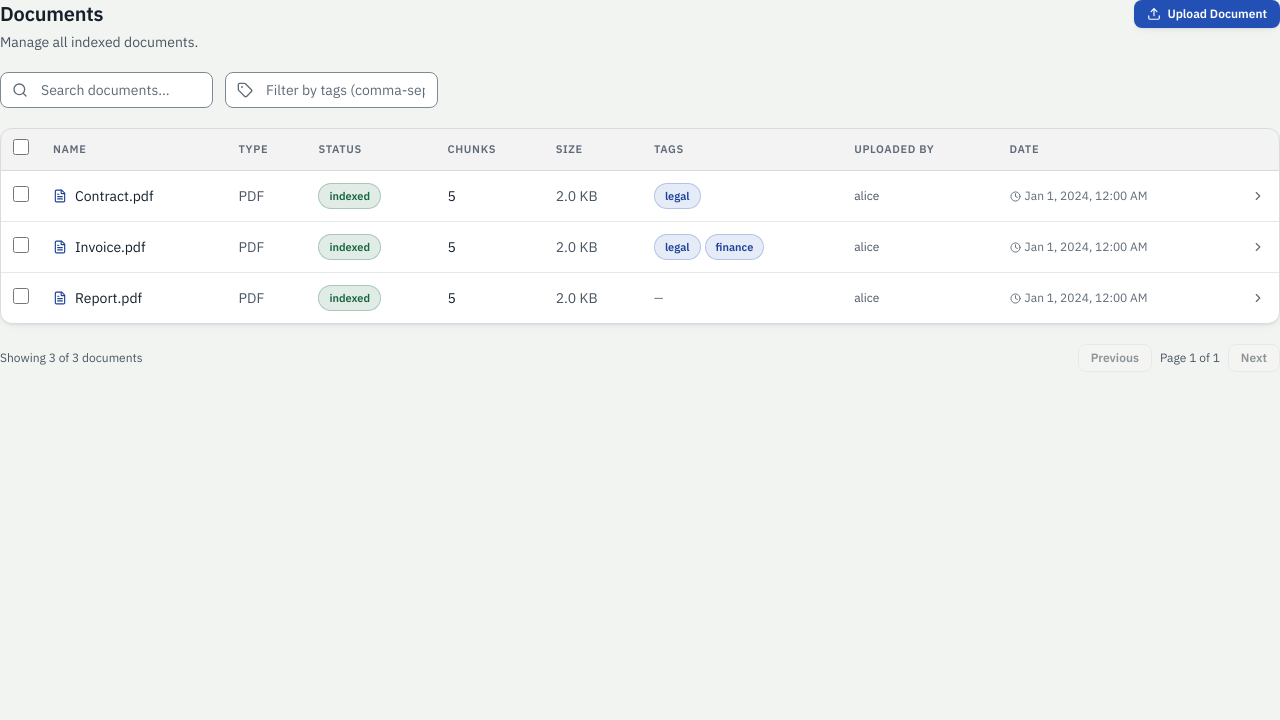
Test: AdminDocumentsPage — Fix round 1 › delete confirm modal lists the selected filenames
Expected: the text "Contract.pdf" is shown, [75,186,154,206]
Click the checkbox named "Select all documents".
click(21, 147)  # box [13,139,29,155]
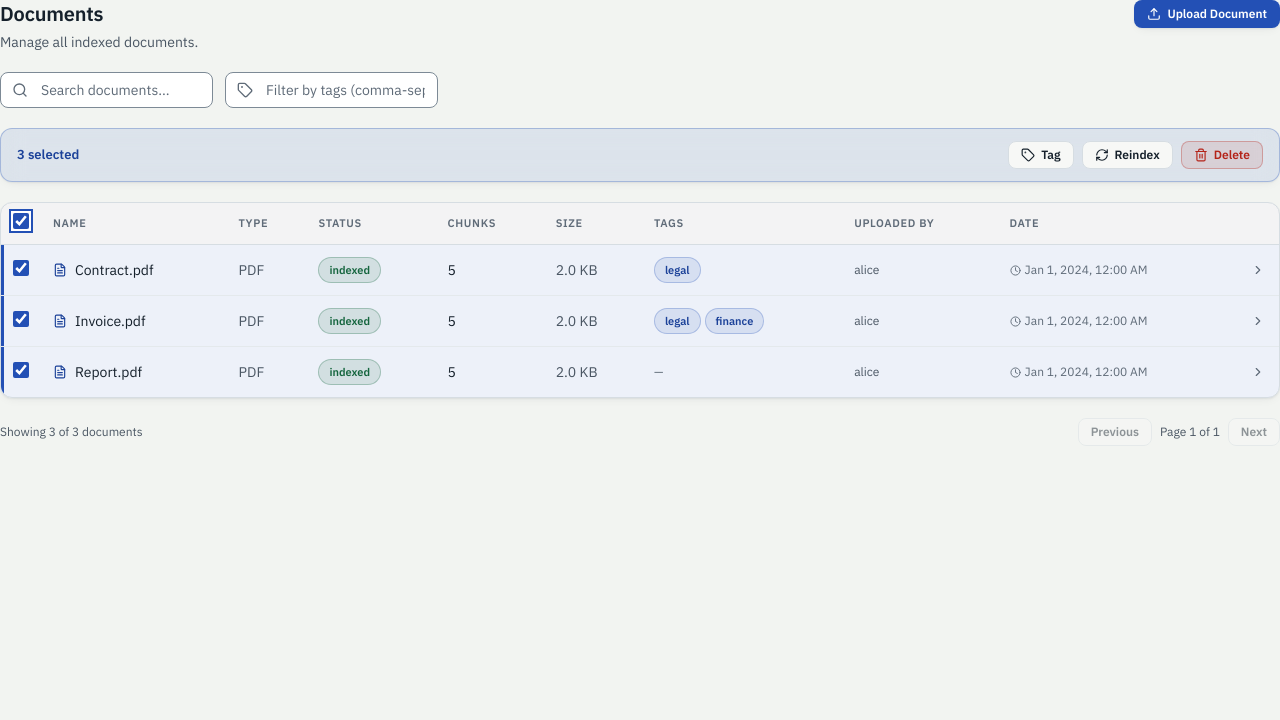
Click the checkbox named "Select Contract.pdf".
click(21, 268)  # box [13,260,29,276]
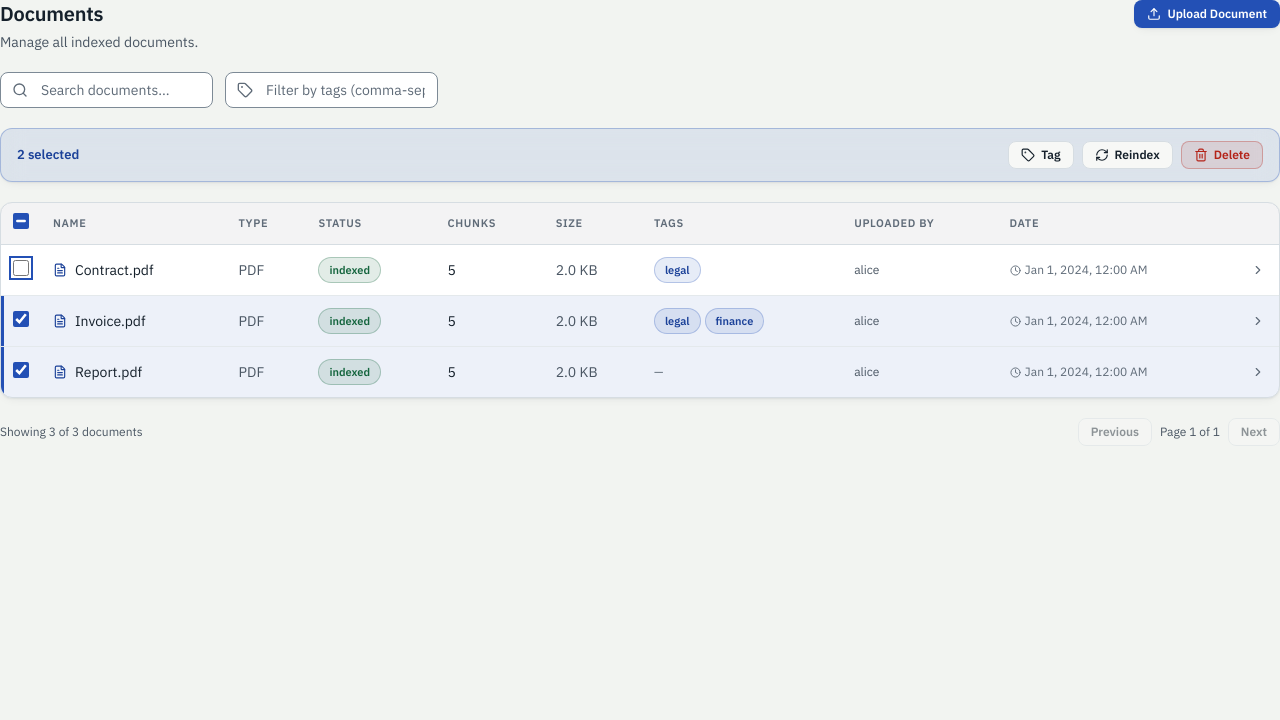
Now the text "2 selected" is shown, box [17,145,79,165]
Click the button "Delete".
click(1222, 155)  # box [1181,141,1263,169]
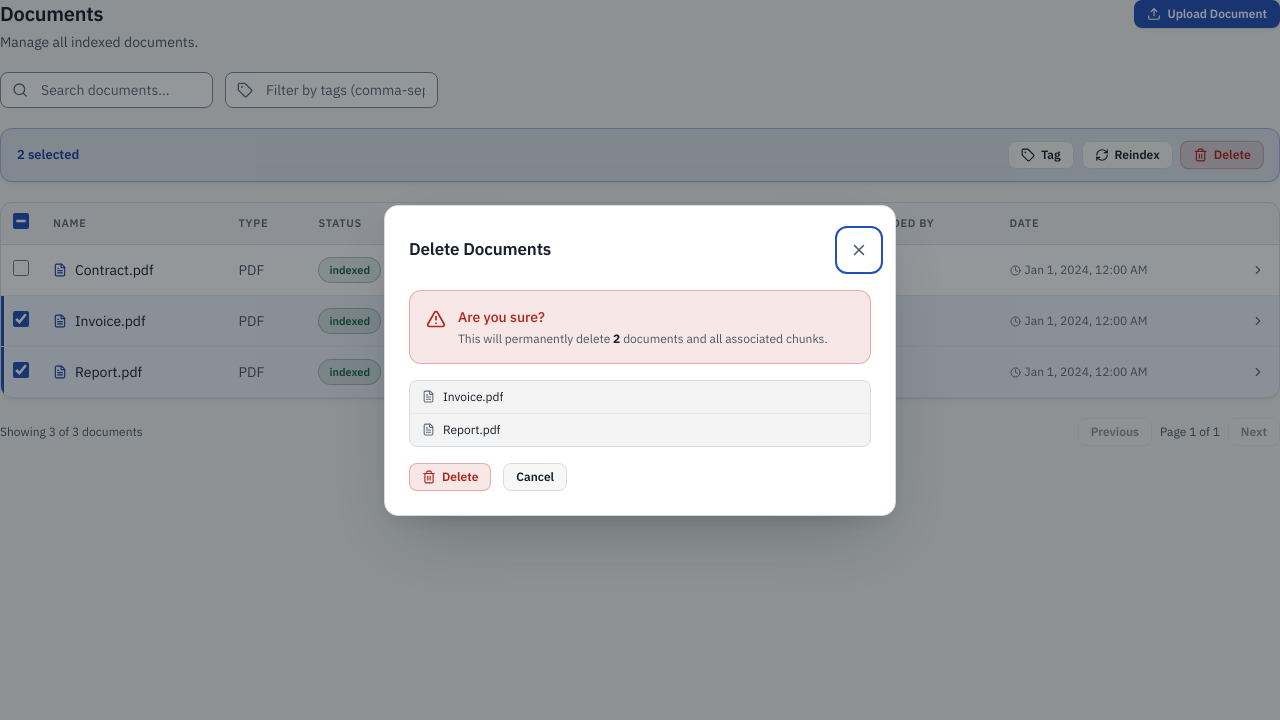
Now the text "Invoice.pdf" is shown, box [443,388,503,404]
Now the text "Report.pdf" is shown, box [443,422,500,438]
